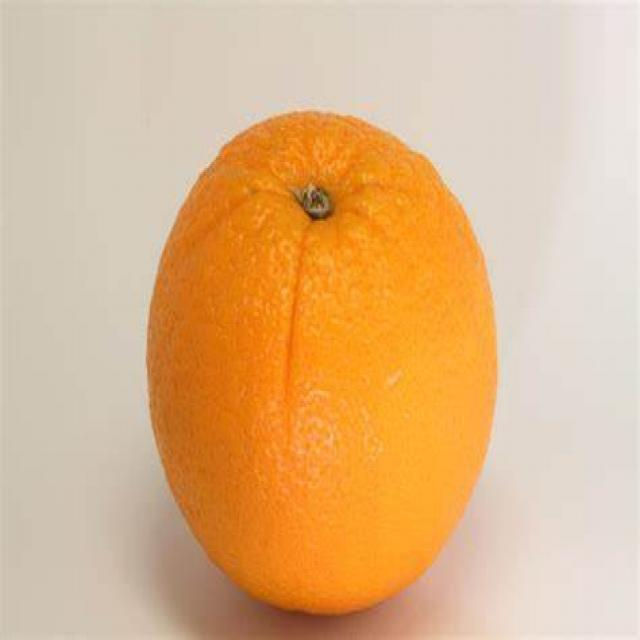Orange: (147, 108, 504, 623)
